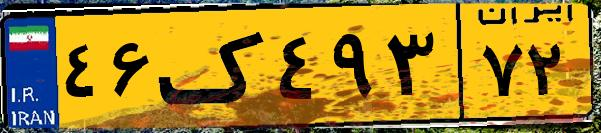2: (525, 38, 570, 115)
3: (385, 28, 445, 110)
4: (270, 28, 330, 110), (57, 26, 110, 100)
6: (110, 28, 158, 98)
7: (475, 38, 525, 113)
9: (330, 28, 385, 110)
ک: (158, 12, 270, 120)
